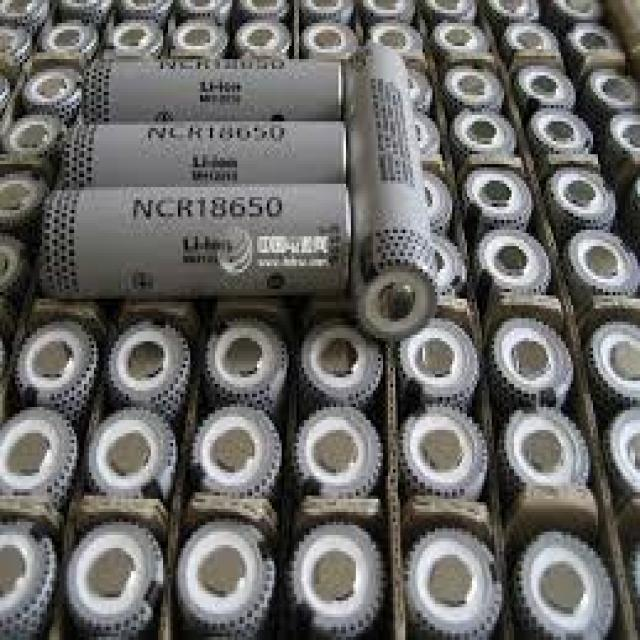non-organic waste: (40, 184, 350, 296), (346, 42, 438, 338), (63, 117, 345, 185), (83, 57, 347, 125)
